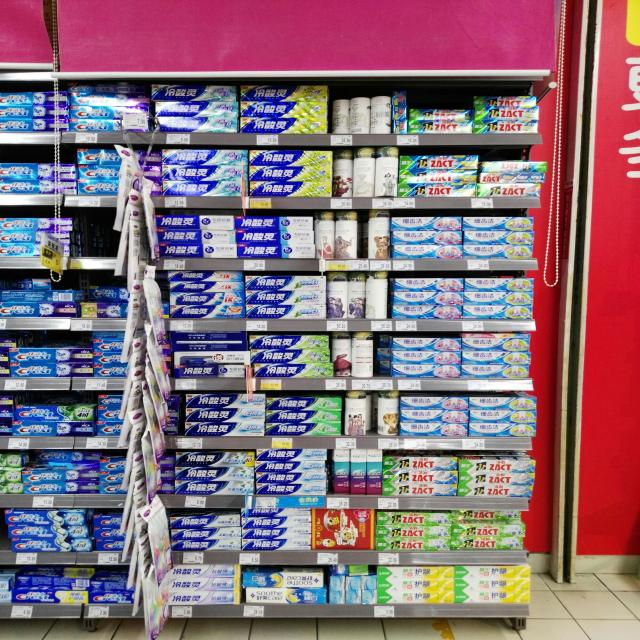void: (75, 210, 110, 269)
